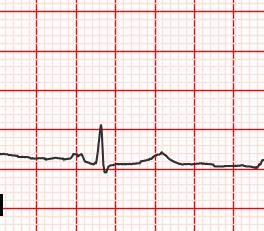LVH: (137, 146, 183, 170)
